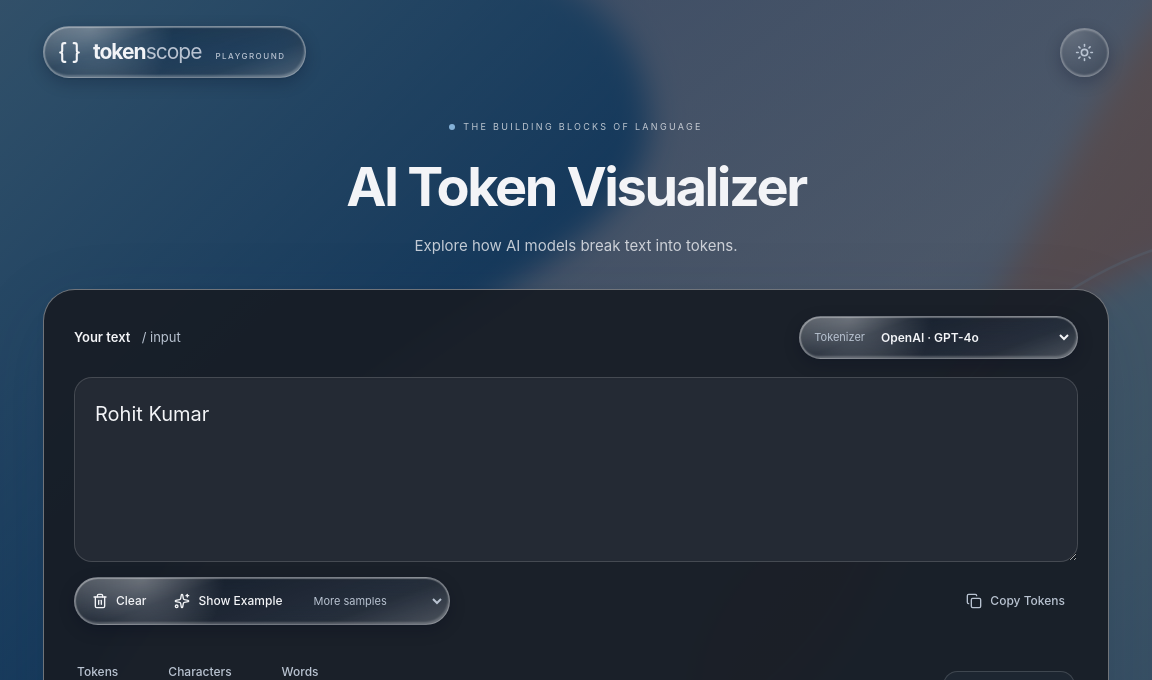
Test case: clears input and restores example
Click the button "Clear": (119, 601) [79,582,160,620]
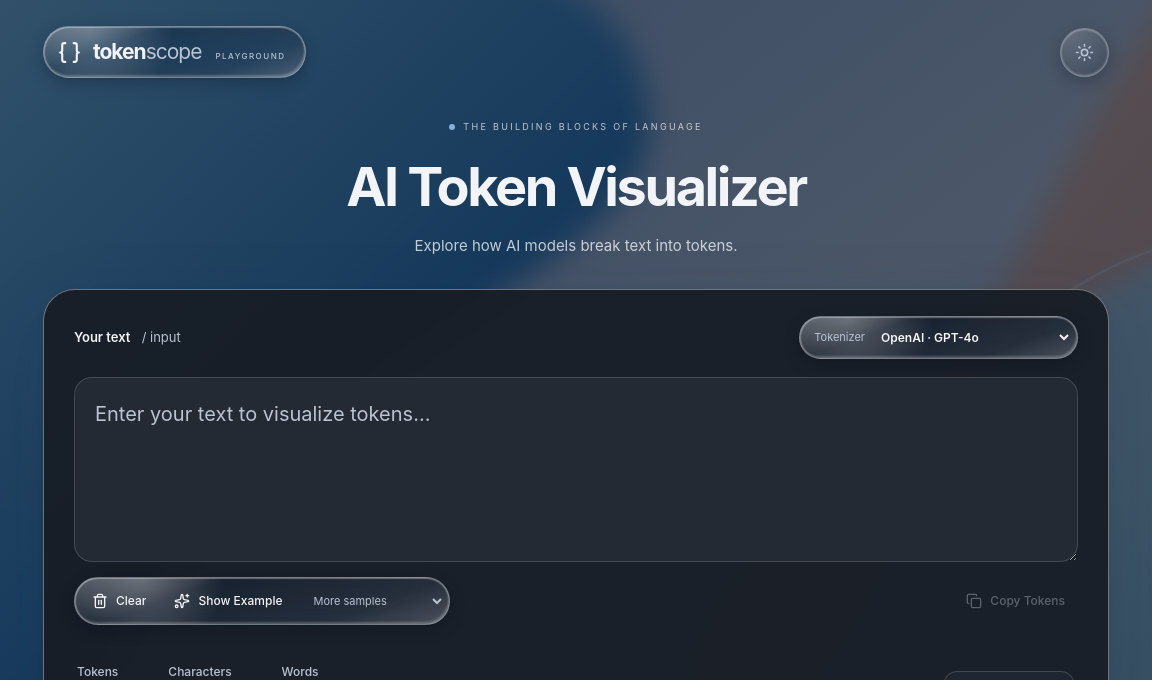
expect the text box labelled "Your text / input" is empty: met, box [74,377,1078,562]
Click the button "Show Example": (228, 601) [162,582,296,620]
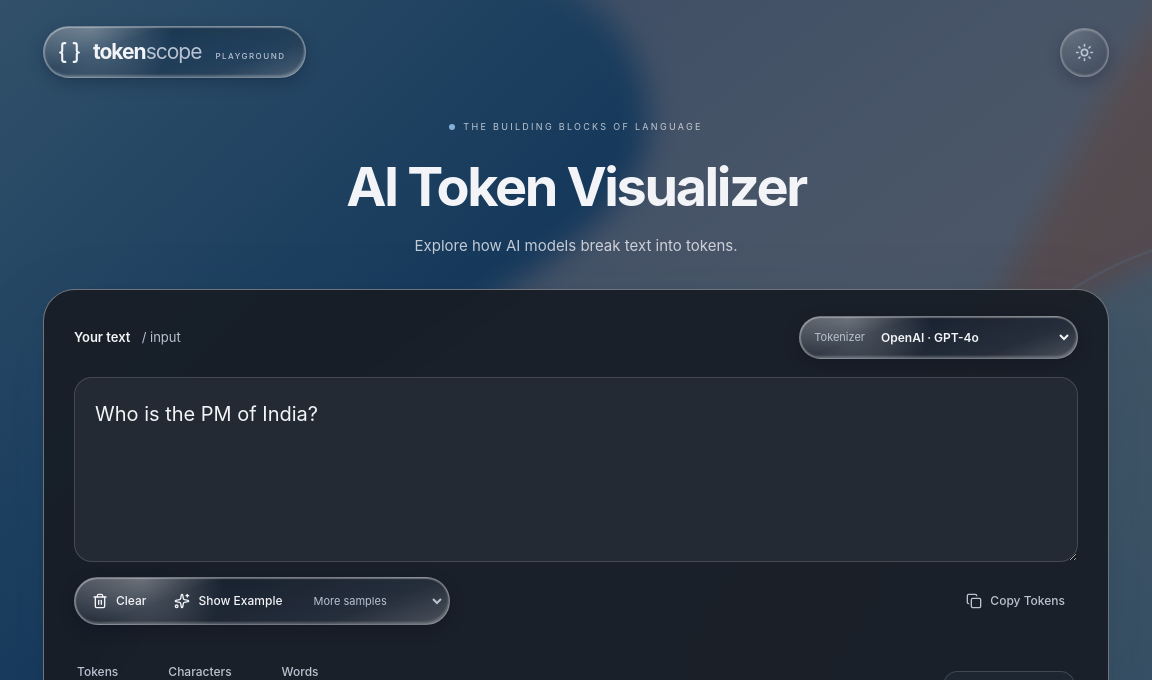
expect the text box labelled "Your text / input" holds "Who is the PM of India?": met, box [74,377,1078,562]
